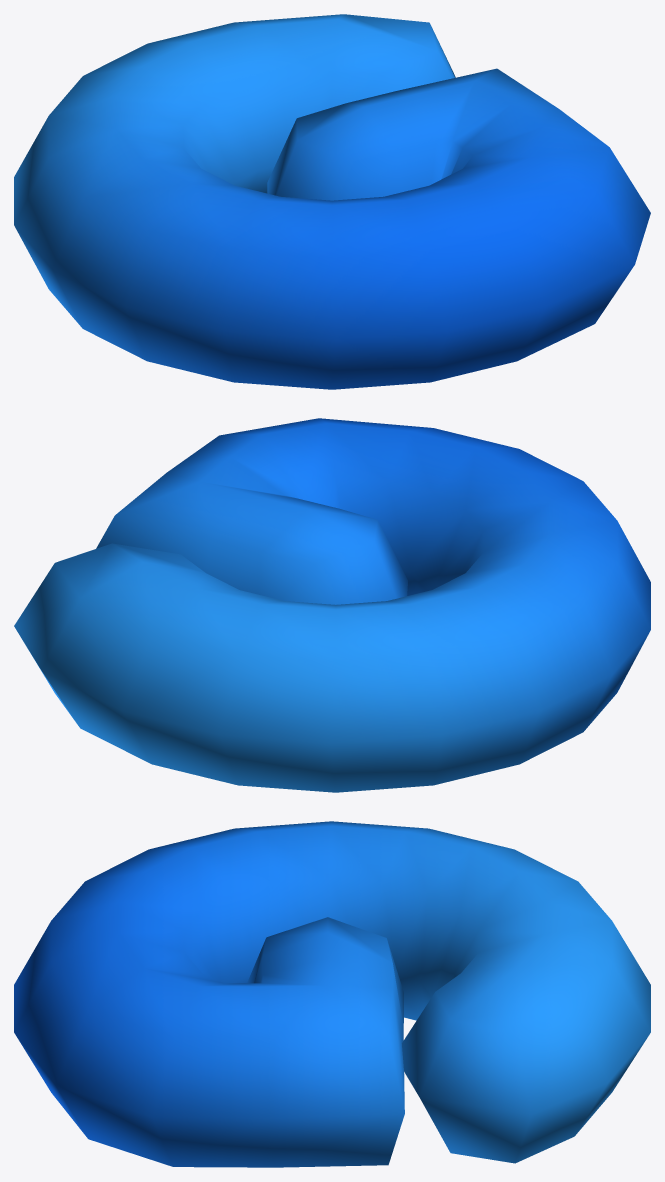
The model's file is CartoonFont_G.FBX.
The picture shows the model from 3 angles, top to bottom: view 1: azimuth 30°, elevation 25°; view 2: azimuth 150°, elevation 25°; view 3: azimuth 270°, elevation 25°; orthographic projection.
Visible parts, largest first — view 1: G; view 2: G; view 3: G.
Part boxes in pixels (x1,y1,x2,y2): G: [14, 14, 650, 389]; G: [14, 418, 650, 792]; G: [14, 821, 650, 1167].
Size of the model in its own units: 27.9 by 9.36 by 30.47.
Materials: 1 (1 with a texture image).
